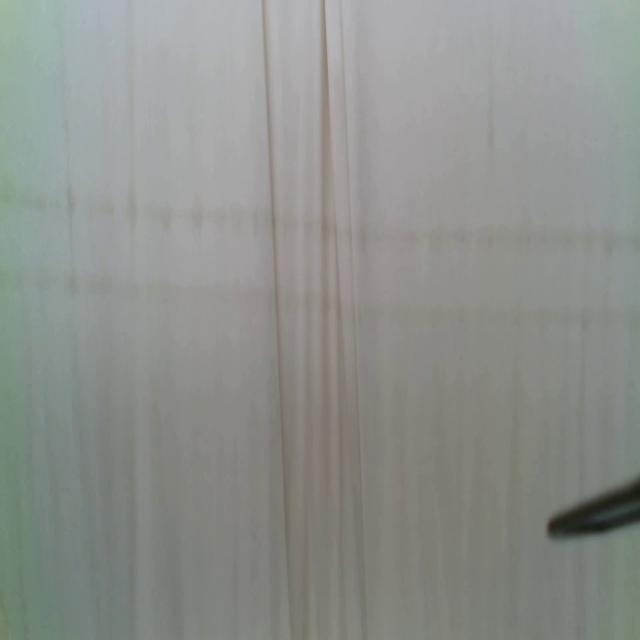color bleeding: (0, 179, 640, 263), (0, 271, 640, 340)
crease: (323, 0, 369, 640), (261, 0, 291, 640)
